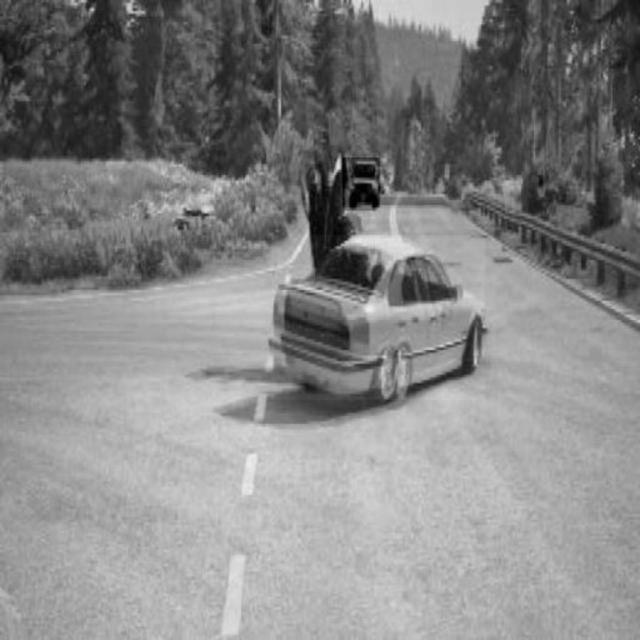vehicle: (272, 236, 486, 401), (342, 158, 380, 209)
